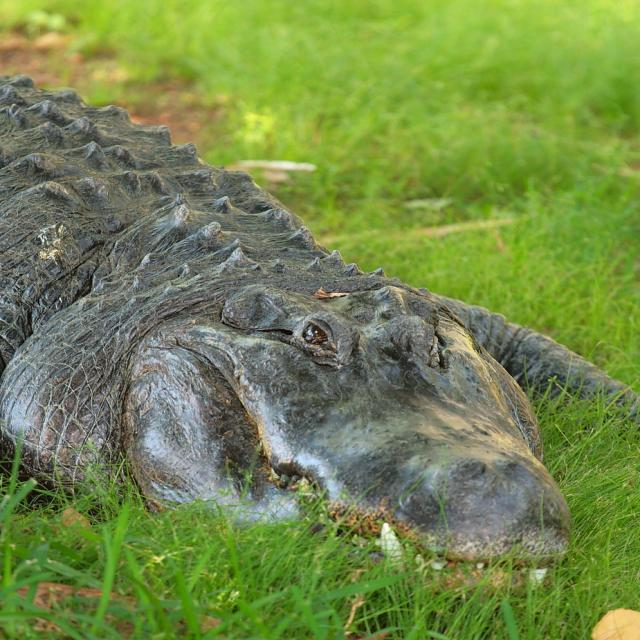crocodile: (1, 70, 639, 606)
